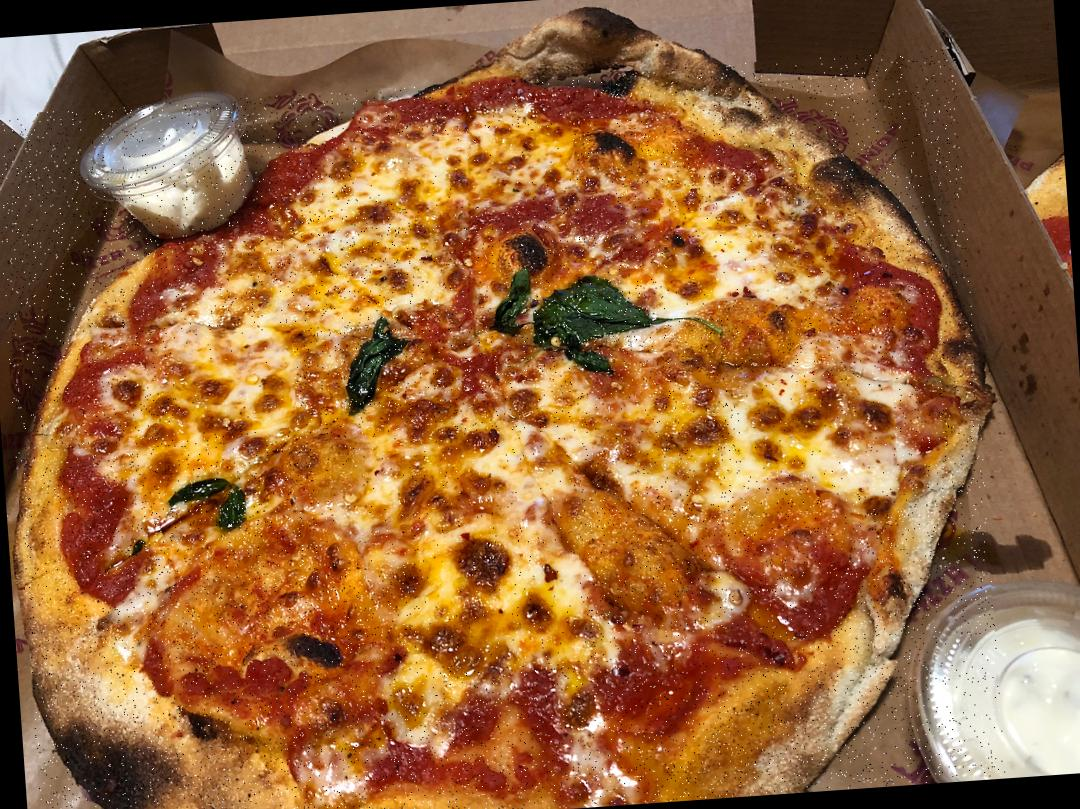Basil: (542, 280, 654, 374), (336, 314, 408, 413), (488, 269, 534, 339), (166, 474, 236, 502), (215, 485, 247, 533)
Cheese: (402, 430, 586, 668), (206, 205, 424, 317), (662, 198, 852, 318), (357, 126, 576, 211), (734, 376, 898, 474), (311, 434, 412, 571), (582, 380, 720, 478), (175, 328, 297, 434)
Pizza: (0, 47, 1006, 809)
